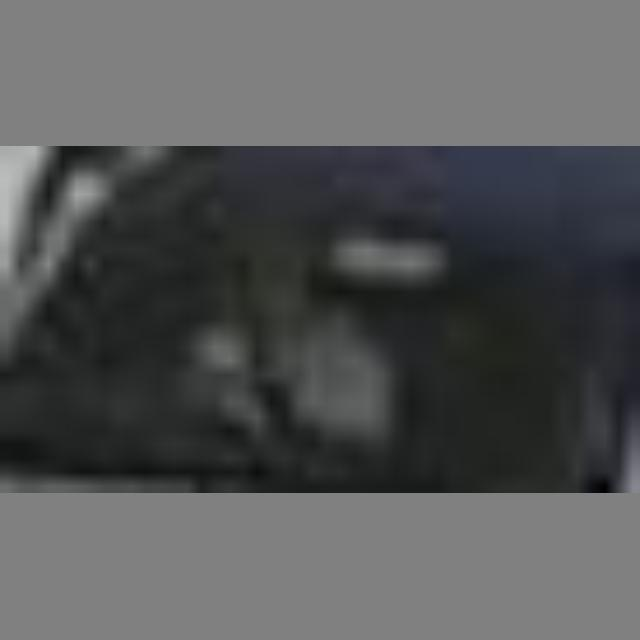pakai: (167, 271, 376, 438)
